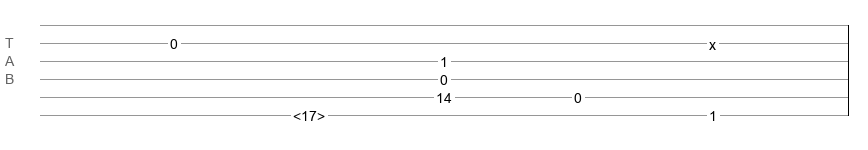0: (170, 36, 178, 46), (440, 72, 448, 82), (574, 90, 582, 100)
1: (440, 54, 448, 64), (709, 108, 717, 118)
14: (436, 90, 452, 100)
harmonic: (293, 108, 325, 118)
x: (709, 37, 716, 45)
